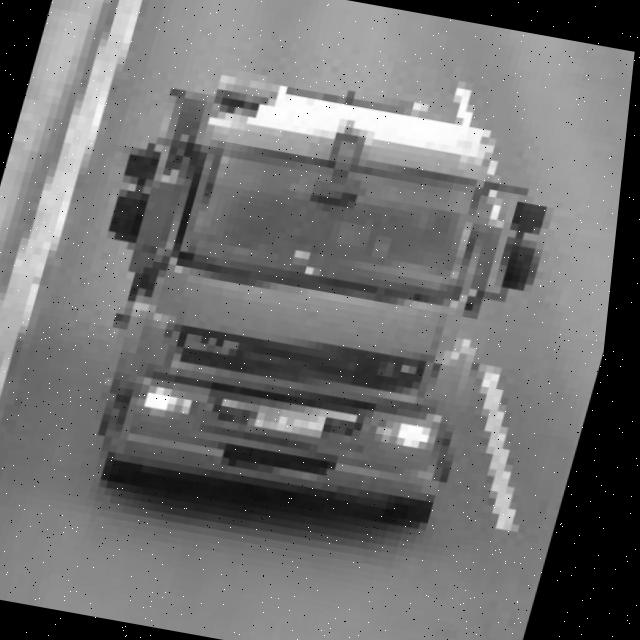truck: (41, 49, 595, 539)
